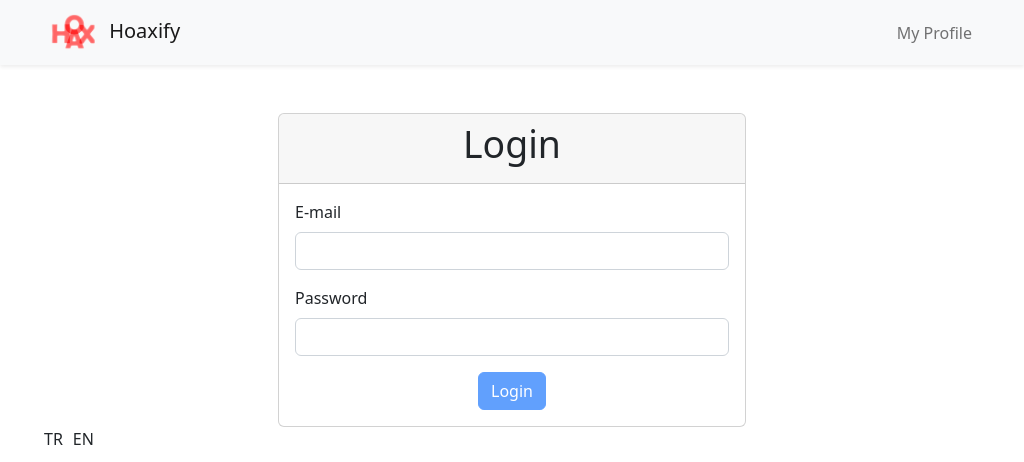
Test: Login › redirects to homepage after successful login
The width and height of the screenshot is (1024, 462).
Step 1. Type "user5@mail.com" into the field labelled "E-mail" → (512,251), box x1=295 y1=232 x2=729 y2=270
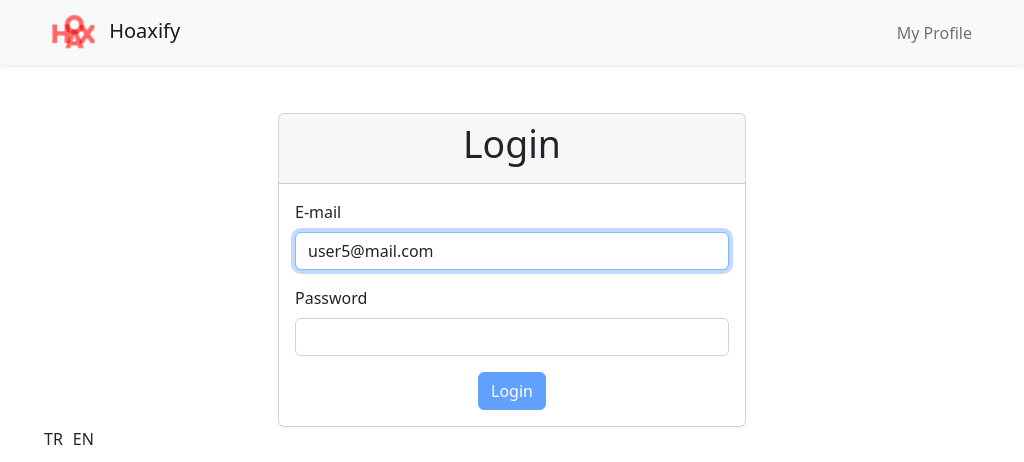
Step 2. Type "P4ssword" into the password field labelled "Password" → (512,337), box x1=295 y1=318 x2=729 y2=356
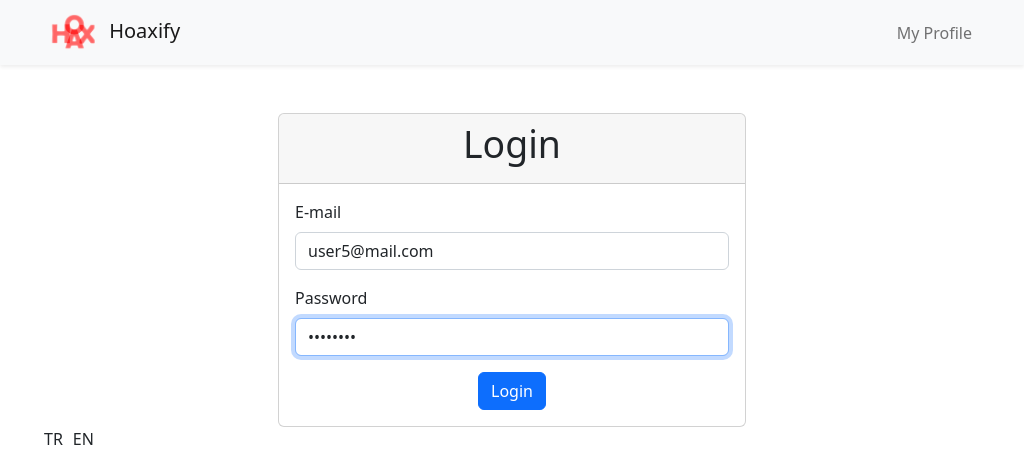
Step 3. Click the button → (512,391), box x1=478 y1=372 x2=546 y2=410
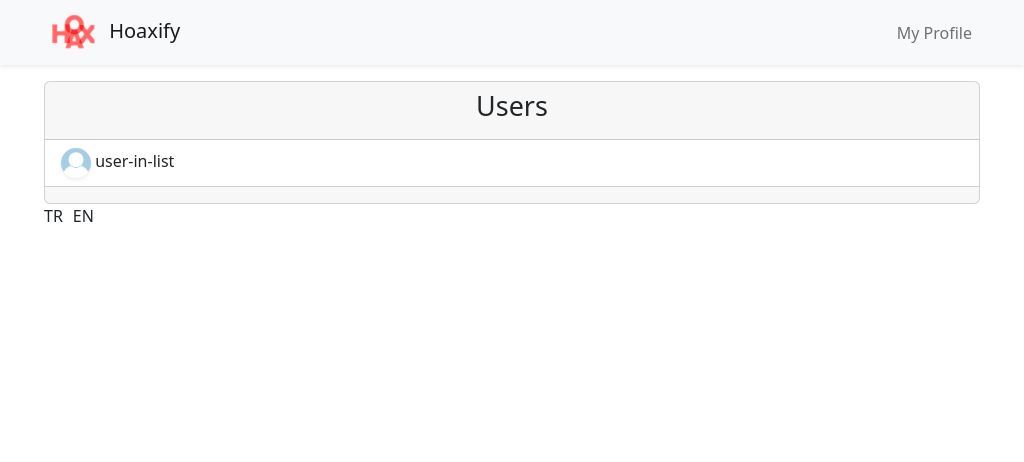
expect the element with test id "home-page" is shown: met, box x1=44 y1=81 x2=980 y2=204
